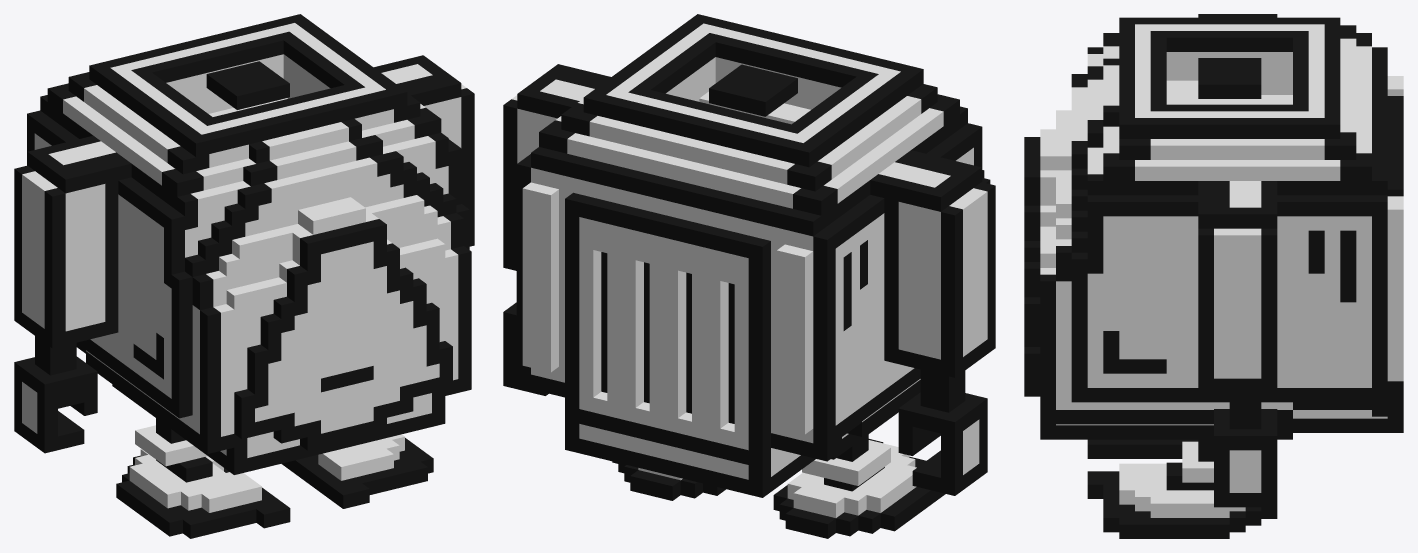
Rendered from robot_meta_corps.obj.
The picture shows the model from 3 angles, left to right: view 1: azimuth 30°, elevation 25°; view 2: azimuth 150°, elevation 25°; view 3: azimuth 270°, elevation 25°; orthographic projection. The views are drawn at different scales.
Bounding box in the file's own units: 3.2 × 2.8 × 2.4.
1 material, 1 textured.
